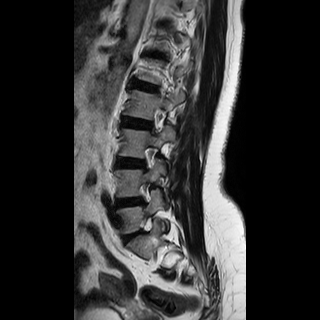LFS0: (143, 102, 169, 140), (137, 140, 163, 176), (133, 177, 162, 209), (136, 210, 160, 238)
